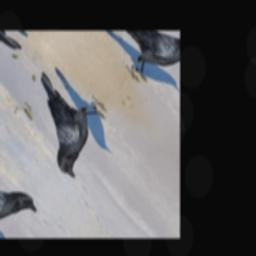Crow: (5, 56, 127, 182)
